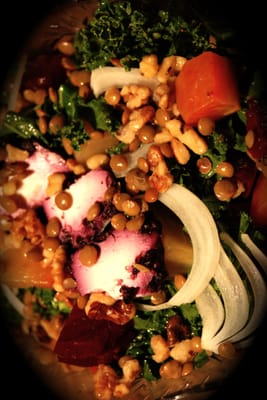curry: (72, 0, 218, 72)
sushi: (4, 0, 267, 395)
